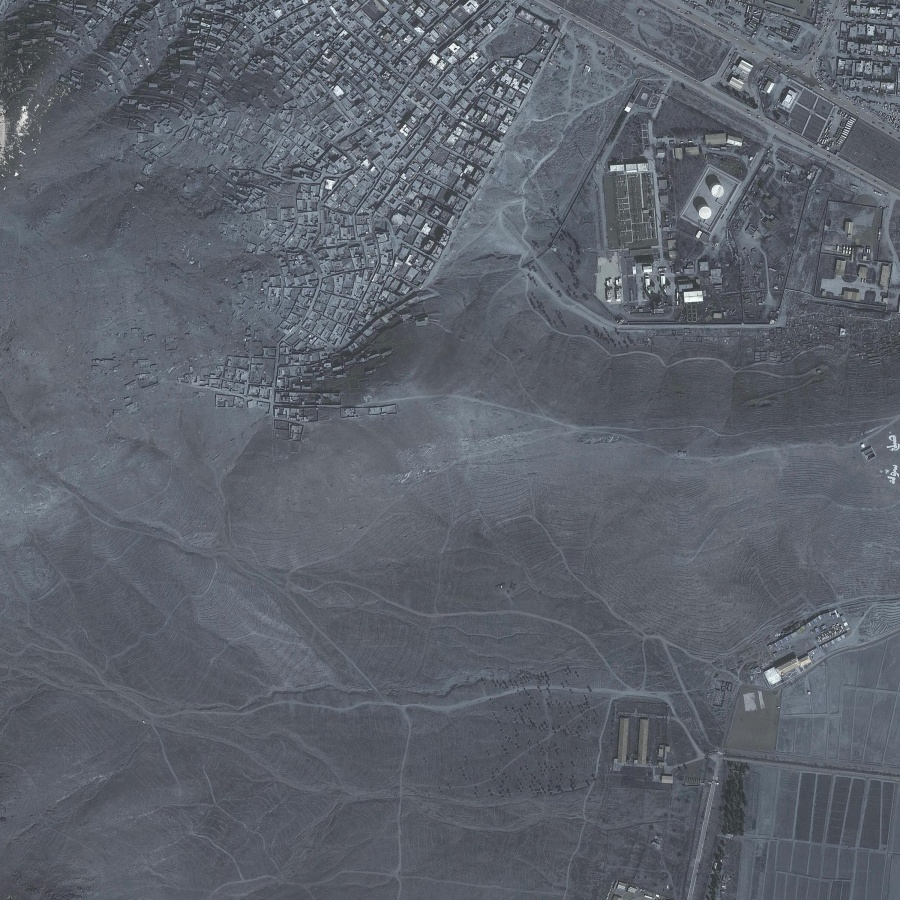PowerPlant: (605, 126, 748, 317)
